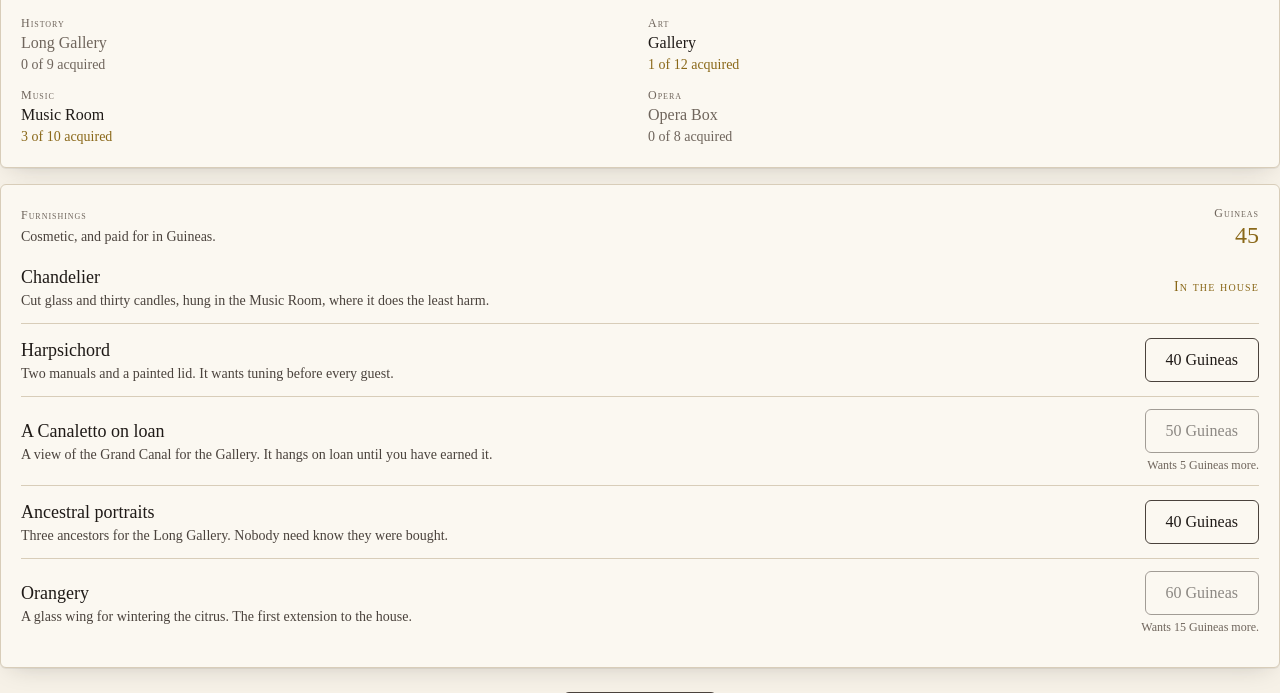
Scenario: EstateScreen › reports a purchase the engine refuses without losing the screen
The image size is (1280, 693).
(page scrolled)
Click the button with test id "buy-harpsichord": (1202, 360) left=1145, top=338, right=1259, bottom=382
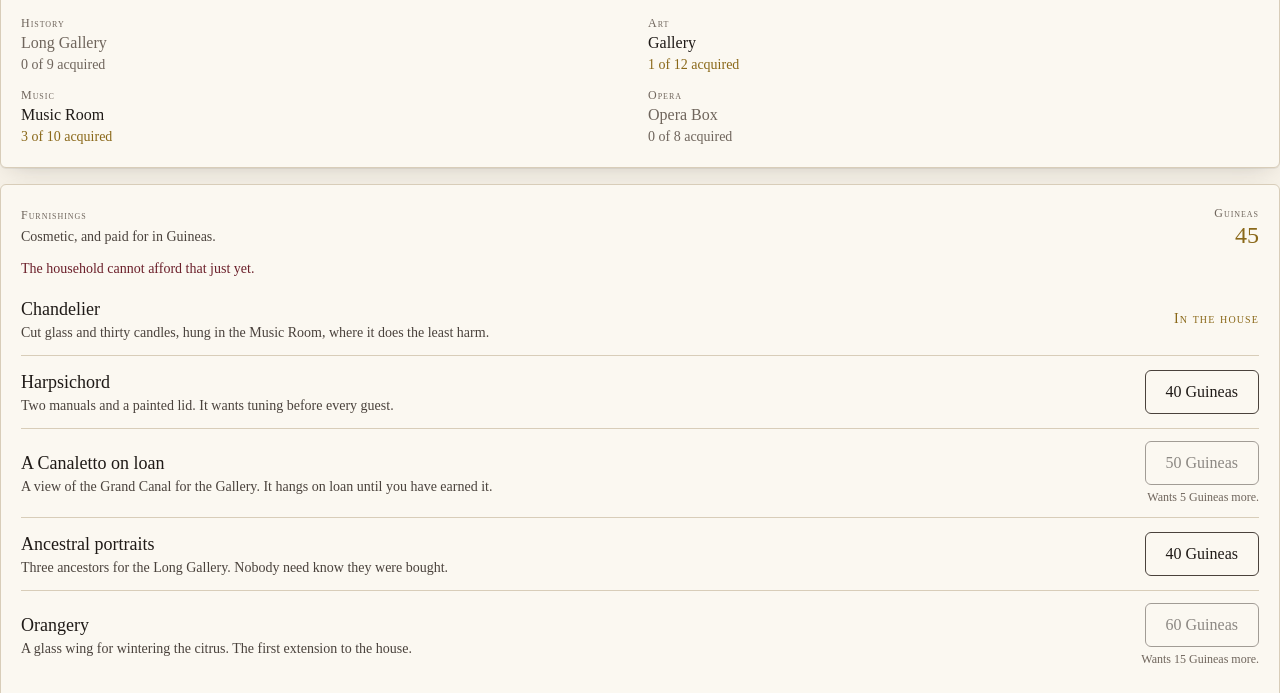
Expected: the button with test id "buy-harpsichord" is shown, left=1145, top=370, right=1259, bottom=414
Expected: the message with test id "estate-notice" reads "The household cannot afford that just yet.", left=21, top=261, right=254, bottom=276
